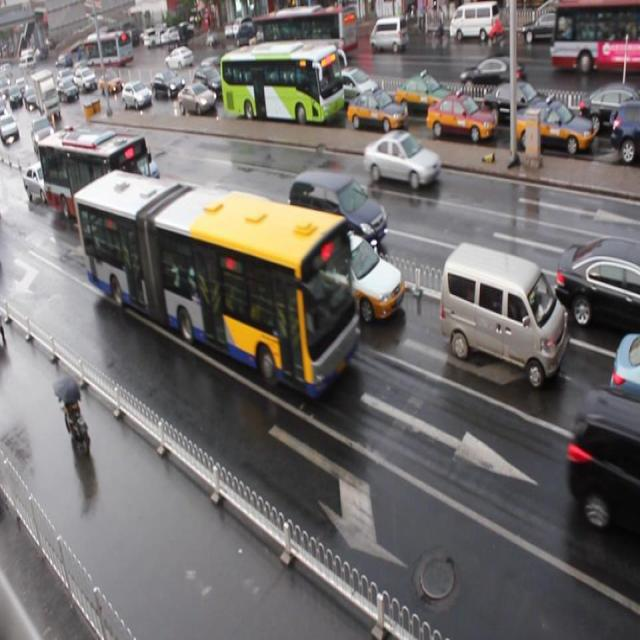BigCar: (89, 171, 365, 405), (217, 40, 336, 135), (36, 129, 159, 216), (554, 0, 640, 89)
car: (444, 227, 570, 389), (579, 383, 640, 562), (565, 223, 640, 341), (344, 211, 405, 350), (294, 156, 384, 240), (370, 126, 442, 206), (520, 94, 596, 154), (435, 88, 502, 146), (342, 88, 406, 138), (465, 49, 532, 91), (181, 76, 216, 126), (401, 70, 443, 105)
